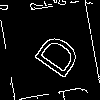D: (25, 25, 83, 81)
